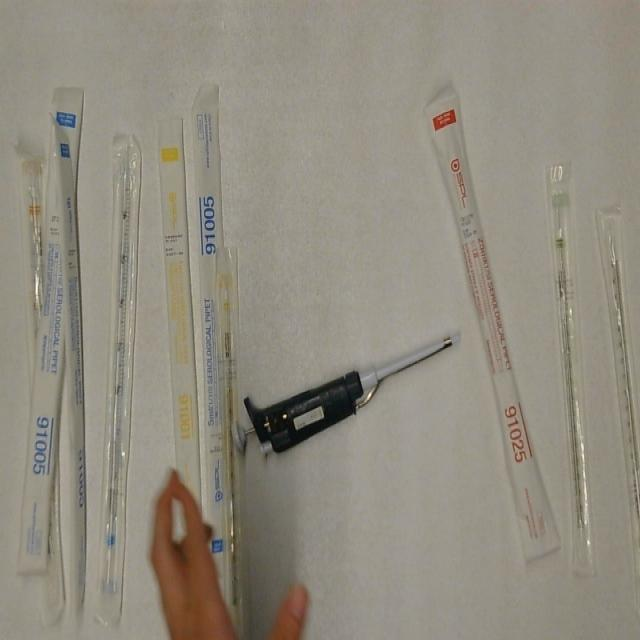Serelogical Pipet 1 mL: (154, 116, 203, 524), (216, 240, 248, 628)
Serelogical Pipet 10 mL: (18, 143, 52, 385)
Serelogical Pipet 2 mL: (542, 158, 599, 588)
Serelogical Pipet 25 mL: (420, 87, 565, 573)
Serelogical Pipet 5 mL: (13, 83, 88, 578), (92, 130, 147, 628), (47, 112, 97, 629), (190, 77, 237, 597)
Single Channel Pipettor: (228, 324, 464, 464)
